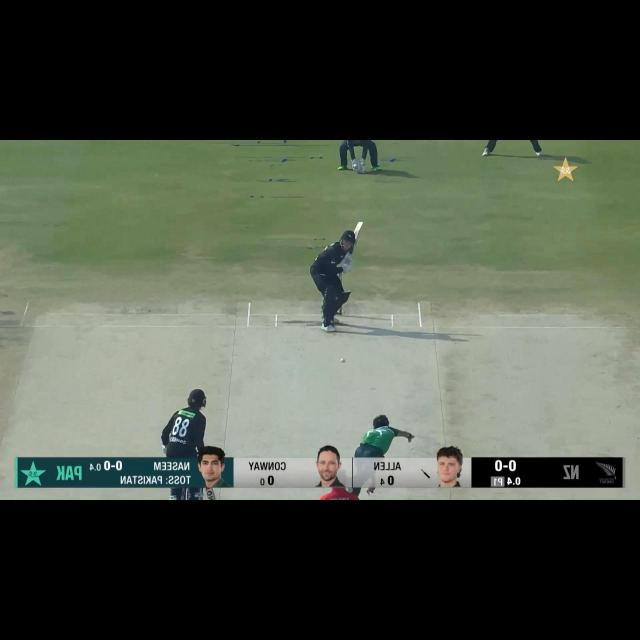bat: (352, 220, 364, 240), (204, 488, 217, 500)
toe: (353, 220, 365, 228)
